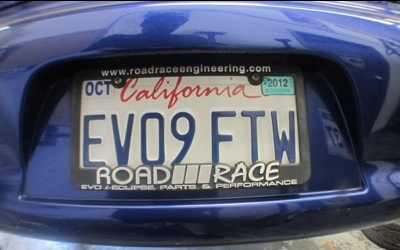plaka: (66, 58, 316, 193)
